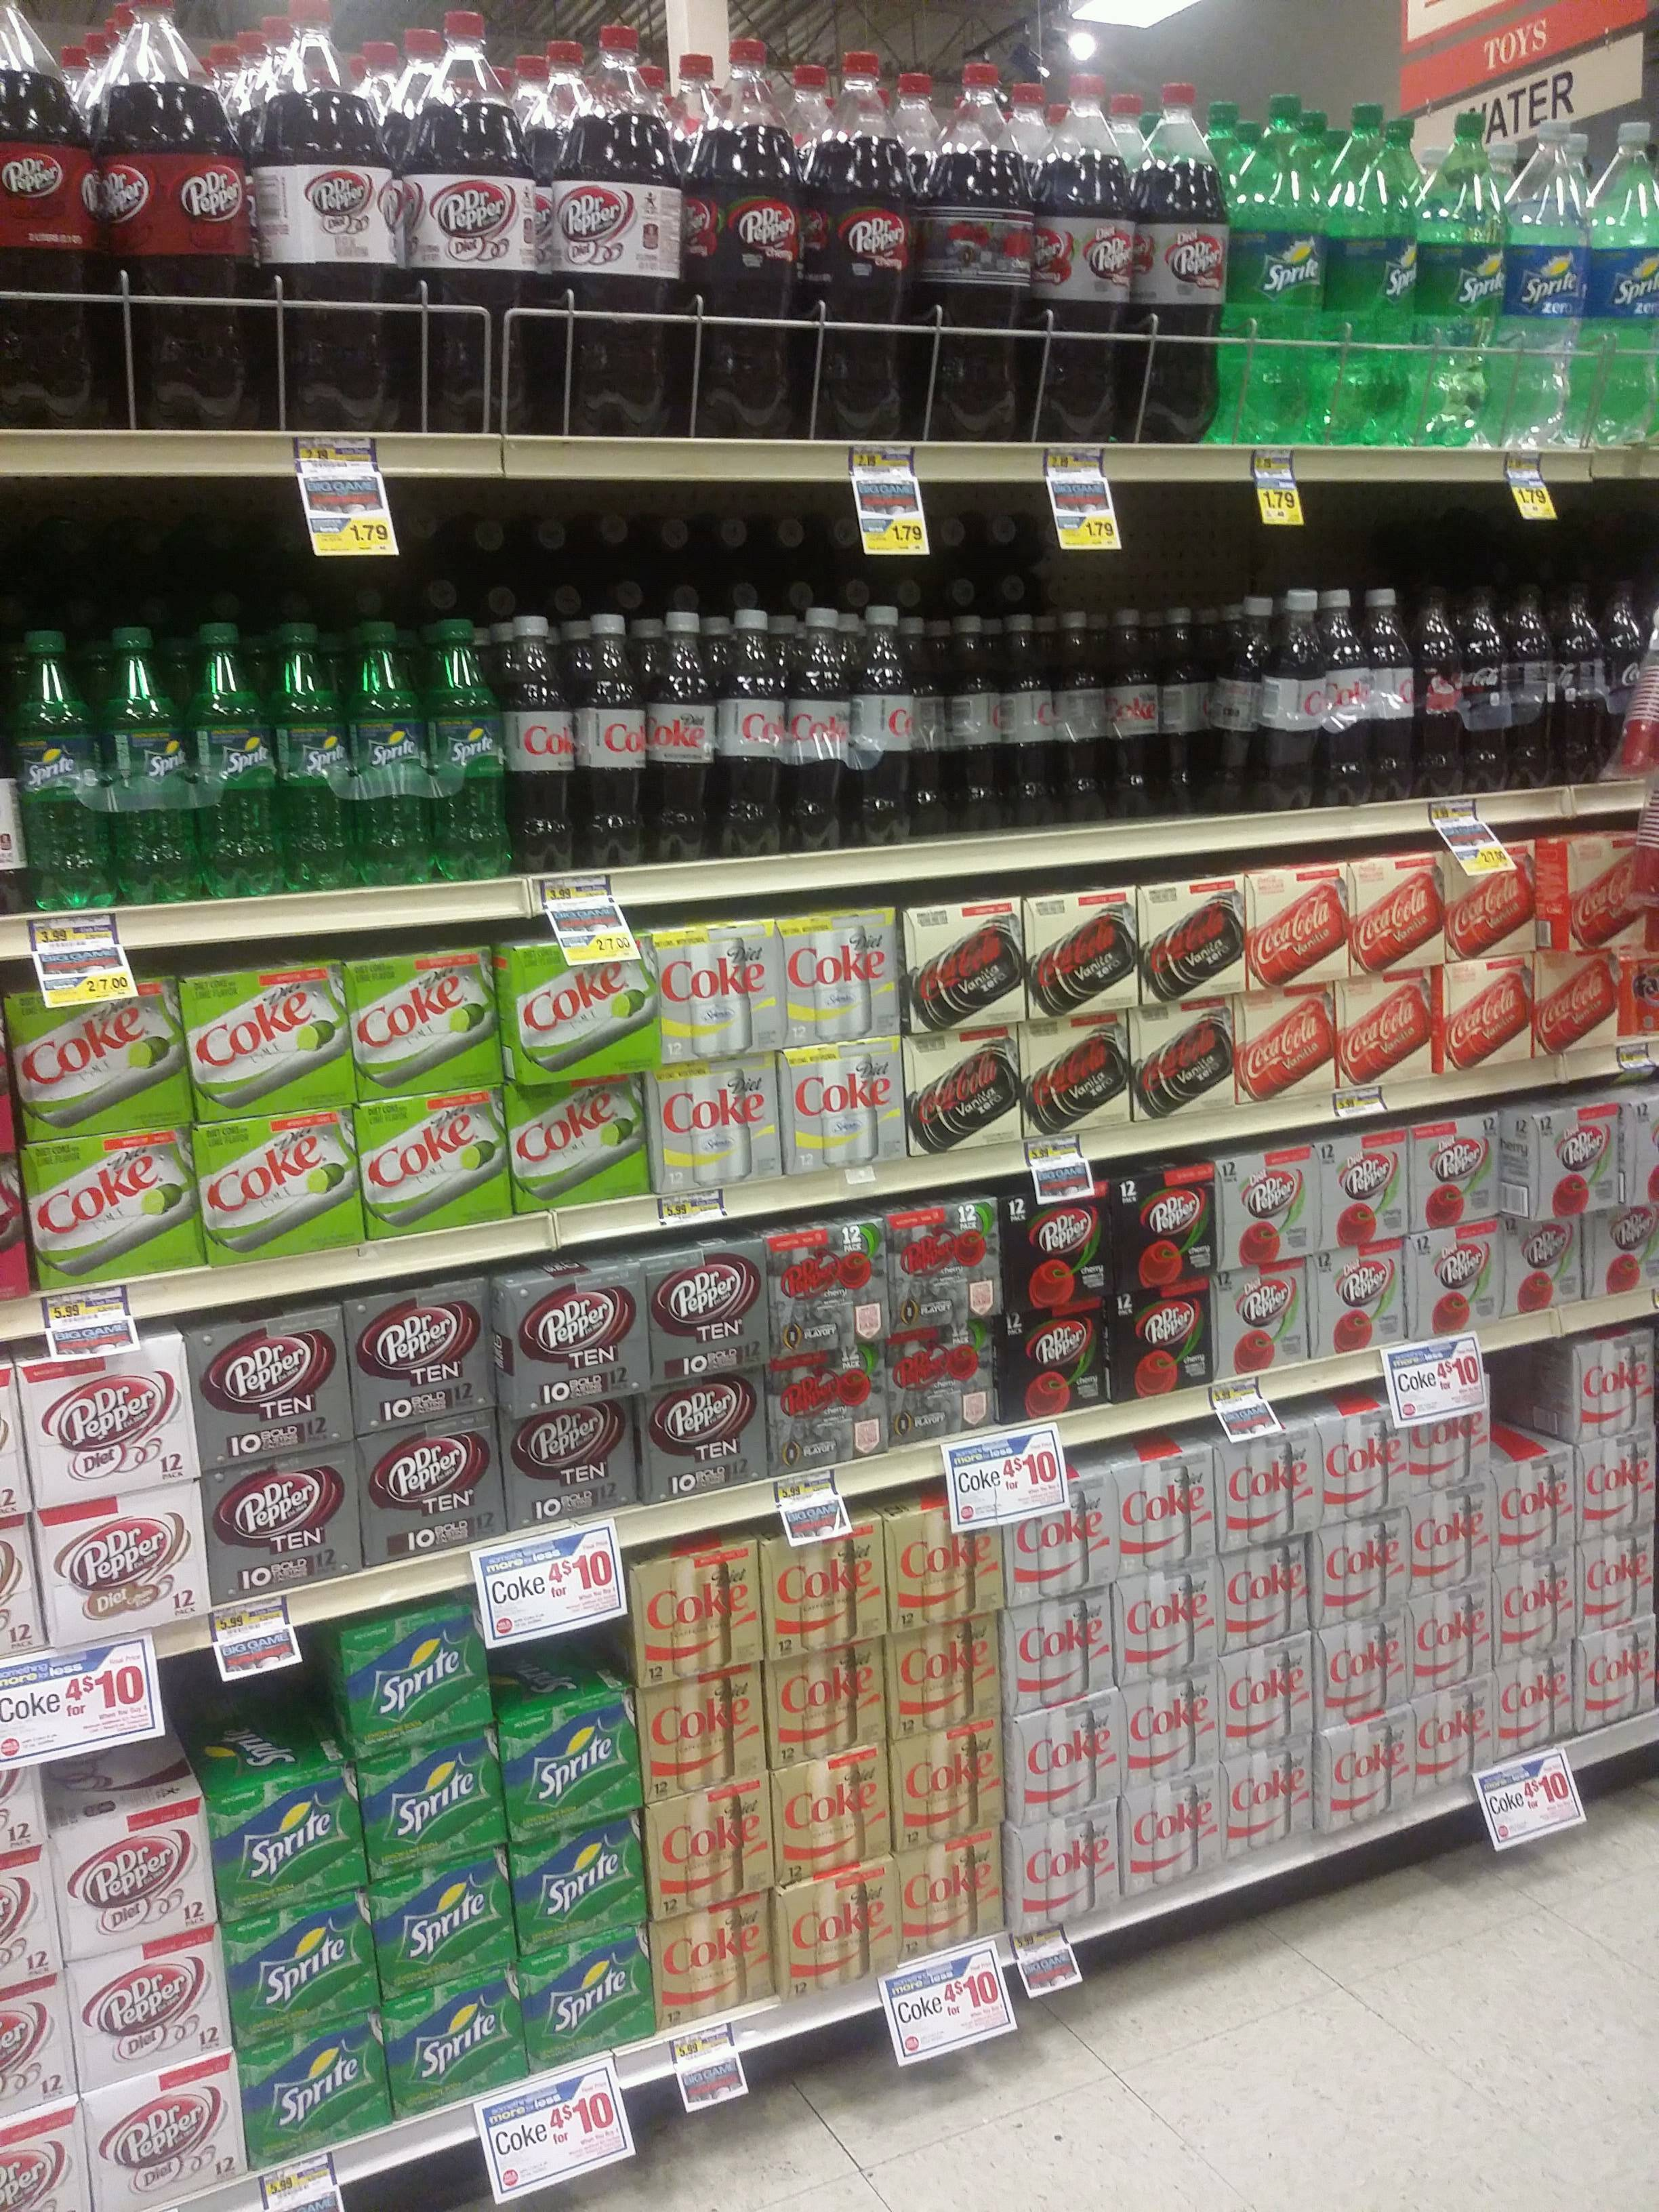product: (119, 7, 258, 434), (547, 14, 678, 451), (268, 2, 396, 430), (406, 7, 526, 442), (2, 3, 106, 430), (692, 28, 798, 442), (809, 40, 911, 449), (920, 57, 1025, 442), (1126, 57, 1225, 448), (1032, 57, 1126, 441), (1317, 75, 1403, 449), (1230, 73, 1310, 453), (1410, 78, 1490, 455), (1588, 105, 1659, 446), (1504, 103, 1574, 446), (14, 986, 176, 1123), (188, 967, 350, 1103), (23, 1141, 195, 1268), (199, 617, 275, 894), (112, 627, 188, 899), (24, 1352, 188, 1477), (352, 606, 423, 890), (33, 627, 103, 909), (512, 928, 657, 1064), (429, 608, 502, 874), (195, 1318, 349, 1439), (51, 1501, 200, 1623), (281, 613, 345, 890), (497, 1270, 643, 1388), (361, 953, 491, 1083), (579, 606, 645, 862), (207, 1123, 350, 1242), (211, 1468, 357, 1578), (61, 1813, 202, 1926), (369, 1101, 504, 1219), (786, 601, 849, 850), (507, 604, 566, 867), (340, 1615, 484, 1721), (91, 2083, 235, 2188), (720, 606, 779, 857), (361, 1433, 502, 1538), (652, 611, 709, 860), (357, 1298, 491, 1404), (662, 928, 779, 1050), (519, 1083, 643, 1197), (788, 913, 903, 1031), (657, 1068, 775, 1179), (910, 906, 1023, 1021), (634, 1555, 755, 1663), (221, 1789, 350, 1888), (1263, 583, 1317, 812), (369, 1750, 497, 1846), (774, 1228, 884, 1338), (763, 1534, 884, 1634), (789, 1047, 897, 1157), (1030, 895, 1136, 1007), (84, 1963, 214, 2054), (256, 2038, 382, 2132), (652, 1252, 762, 1359), (890, 1507, 1000, 1613), (385, 1874, 509, 1966), (246, 1916, 361, 2013), (859, 597, 904, 845), (399, 1996, 516, 2092), (512, 1416, 631, 1510), (913, 1035, 1016, 1143), (1608, 563, 1659, 782), (512, 1717, 629, 1811), (1108, 1174, 1218, 1273), (519, 1839, 641, 1928), (1209, 590, 1258, 812), (647, 1392, 760, 1486), (1159, 599, 1208, 817), (953, 611, 1002, 829), (525, 1956, 647, 2043), (887, 1217, 993, 1317), (1509, 1109, 1619, 1204), (1556, 566, 1603, 784), (1547, 838, 1647, 941), (784, 1878, 890, 1973), (1147, 885, 1239, 995), (657, 1803, 767, 1895), (1105, 604, 1152, 819), (775, 1360, 884, 1453), (653, 1921, 770, 2006), (1056, 601, 1101, 820), (775, 1768, 887, 1857), (1007, 1195, 1107, 1294), (1026, 1019, 1124, 1120), (1253, 871, 1345, 977), (770, 1655, 880, 1743), (650, 1686, 762, 1773), (894, 1334, 992, 1433), (1004, 1313, 1107, 1407), (1004, 608, 1047, 827), (1370, 573, 1412, 801), (1014, 1486, 1110, 1585), (1509, 573, 1553, 787), (1009, 1714, 1114, 1803), (1324, 580, 1364, 812), (901, 1738, 1002, 1829), (1352, 860, 1441, 963), (1420, 577, 1460, 803), (1223, 1439, 1316, 1534), (1121, 1461, 1213, 1557), (1466, 573, 1506, 792), (1448, 846, 1534, 949), (890, 1634, 993, 1717), (908, 1846, 999, 1940), (1136, 1012, 1232, 1101), (1535, 953, 1629, 1042), (1243, 1000, 1333, 1090), (1115, 1296, 1209, 1383), (1115, 1575, 1213, 1658), (1345, 979, 1427, 1078), (1223, 1160, 1310, 1252), (1018, 1822, 1114, 1905), (1413, 1120, 1497, 1216), (1443, 967, 1525, 1064), (1126, 1791, 1225, 1871), (1126, 1683, 1215, 1771), (1319, 1144, 1401, 1238), (1012, 1606, 1110, 1683), (1575, 1331, 1657, 1420), (1324, 1418, 1406, 1507), (1223, 1275, 1307, 1360), (1419, 1233, 1497, 1324), (911, 613, 943, 834), (1317, 1258, 1403, 1338), (1321, 1730, 1413, 1803), (1227, 1547, 1307, 1630), (1225, 1656, 1309, 1733), (1321, 1526, 1405, 1599), (1319, 1634, 1408, 1702), (1497, 1463, 1574, 1540), (1417, 1491, 1488, 1573), (1232, 1763, 1312, 1832), (1513, 1217, 1574, 1308), (1581, 1635, 1659, 1705), (1420, 1695, 1492, 1770), (1581, 1446, 1657, 1515), (1420, 1595, 1492, 1669), (1507, 1658, 1568, 1743), (1420, 1393, 1486, 1472), (1502, 1562, 1567, 1639), (1582, 1543, 1654, 1602)
